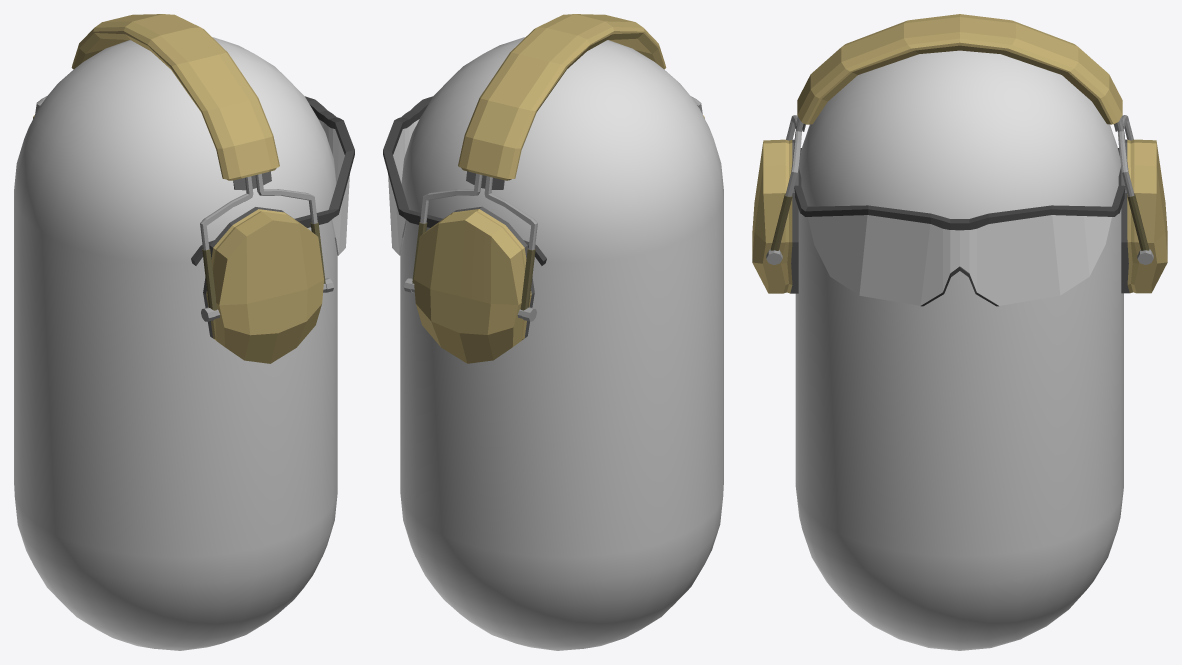
Rendered from player.glb.
3 views of the same model, side by side, from view 1: azimuth 30°, elevation 25°; view 2: azimuth 150°, elevation 25°; view 3: azimuth 270°, elevation 25° (orthographic).
Parts seen in each view (by area): view 1: Player__1_, Circle_005, Plane_106, Plane_112, Plane_111, Plane_105, Plane_104; view 2: Player__1_, Circle_006, Plane_106, Plane_112, Plane_111, Plane_109, Plane_108; view 3: Player__1_, Plane_111, Plane_106, Circle_006, Circle_005, Plane_112, Plane_104, Plane_108.
Part boxes in pixels (<box>): Player__1_: <box>14,37,337,650</box>; Circle_005: <box>203,207,323,363</box>; Plane_106: <box>71,14,279,180</box>; Plane_112: <box>191,96,354,265</box>; Plane_111: <box>318,119,349,255</box>; Plane_105: <box>200,176,253,310</box>; Plane_104: <box>255,173,325,283</box>; Player__1_: <box>400,37,723,650</box>; Circle_006: <box>413,206,534,363</box>; Plane_106: <box>458,14,666,180</box>; Plane_112: <box>383,96,546,265</box>; Plane_111: <box>388,119,419,255</box>; Plane_109: <box>484,176,537,310</box>; Plane_108: <box>412,173,482,283</box>; Player__1_: <box>795,50,1123,650</box>; Plane_111: <box>808,215,1111,305</box>; Plane_106: <box>797,14,1122,124</box>; Circle_006: <box>1121,139,1167,293</box>; Circle_005: <box>752,139,798,293</box>; Plane_112: <box>794,148,1125,230</box>; Plane_104: <box>770,118,803,250</box>; Plane_108: <box>1116,118,1149,250</box>.
Size of the model in its own units: 1.06 by 2.05 by 1.27.
